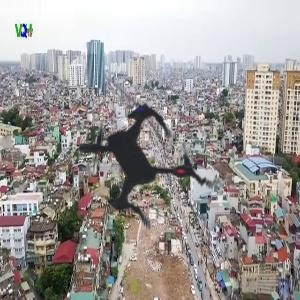drone: (4, 36, 264, 296)
